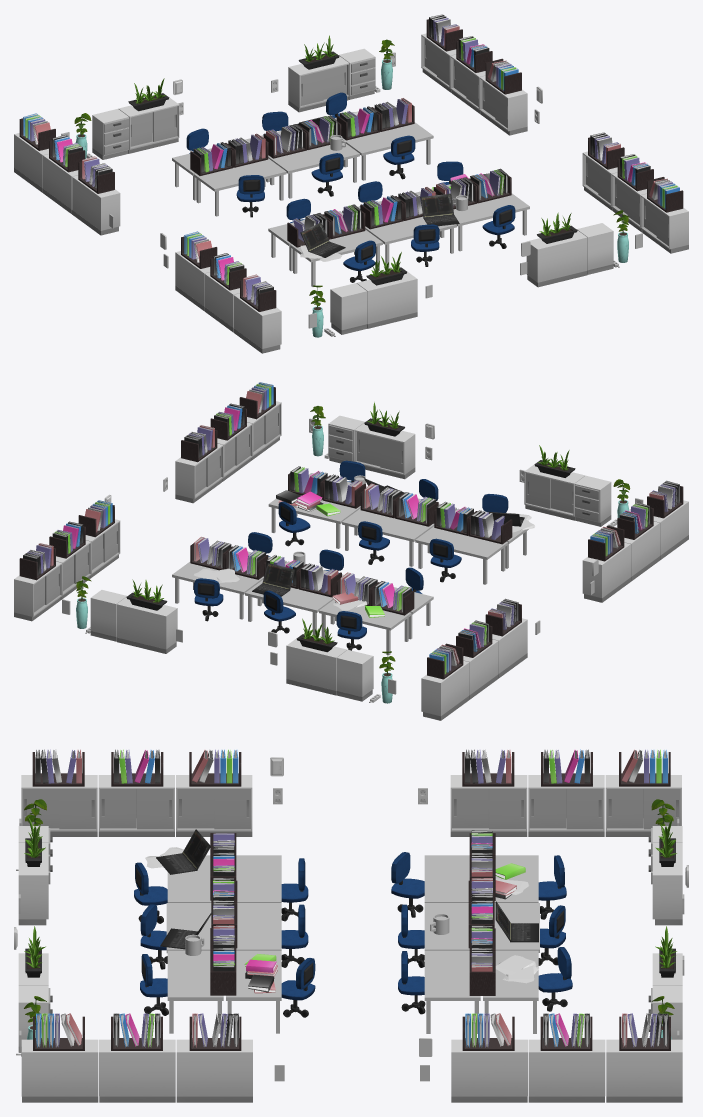
Rendered from Room04Set1.FBX.
3 views of the same model, one above another, from view 1: azimuth 30°, elevation 25°; view 2: azimuth 150°, elevation 25°; view 3: azimuth 270°, elevation 25° (orthographic). The views are drawn at different scales.
Parts seen in each view (by area): view 1: chestbox060, chestbox062, chestbox050, chestbox053, chestbox061, Box389, Box390, Box388, Box401, chestbox059, chestbox057, chestbox048 (+29 smaller); view 2: chestbox066, chestbox064, chestbox054, chestbox051, chestbox063, Box405, Box403, chestbox065, chestbox047, chestbox060, Box386, chestbox053 (+23 smaller); view 3: chestbox058, chestbox048, chestbox047, chestbox056, chestbox057, chestbox049, Box390, Box401, Box389, Box405, chestbox064, Box403 (+58 smaller).
Part boxes in pixels (x1=…): chestbox060: x1=526, y1=230, x2=587, y2=287; chestbox062: x1=356, y1=271, x2=417, y2=328; chestbox050: x1=233, y1=293, x2=281, y2=353; chestbox053: x1=72, y1=175, x2=120, y2=235; chestbox061: x1=330, y1=283, x2=367, y2=334; Box389: x1=193, y1=158, x2=286, y2=216; Box390: x1=342, y1=122, x2=433, y2=180; Box388: x1=268, y1=143, x2=359, y2=198; Box401: x1=440, y1=193, x2=529, y2=251; chestbox059: x1=576, y1=223, x2=613, y2=274; chestbox057: x1=479, y1=75, x2=527, y2=135; chestbox048: x1=640, y1=194, x2=688, y2=253; chestbox066: x1=116, y1=597, x2=177, y2=653; chestbox064: x1=286, y1=638, x2=346, y2=695; chestbox054: x1=421, y1=660, x2=469, y2=720; chestbox051: x1=582, y1=542, x2=630, y2=602; chestbox063: x1=336, y1=650, x2=373, y2=701; Box405: x1=415, y1=526, x2=508, y2=584; Box403: x1=342, y1=508, x2=434, y2=566; chestbox065: x1=90, y1=590, x2=126, y2=641; chestbox047: x1=175, y1=443, x2=223, y2=503; chestbox060: x1=354, y1=423, x2=415, y2=479; Box386: x1=319, y1=599, x2=411, y2=655; chestbox053: x1=492, y1=618, x2=527, y2=677; chestbox058: x1=528, y1=1039, x2=605, y2=1102; chestbox048: x1=21, y1=1039, x2=98, y2=1102; chestbox047: x1=176, y1=1039, x2=252, y2=1102; chestbox056: x1=606, y1=1039, x2=682, y2=1102; chestbox057: x1=451, y1=1039, x2=527, y2=1102; chestbox049: x1=99, y1=1039, x2=175, y2=1102; Box390: x1=424, y1=950, x2=480, y2=1033; Box401: x1=167, y1=950, x2=223, y2=1033; Box389: x1=424, y1=855, x2=469, y2=902; Box405: x1=236, y1=855, x2=281, y2=902; chestbox064: x1=652, y1=843, x2=682, y2=925; Box403: x1=236, y1=903, x2=281, y2=950.
Bounding box in the file's own units: 119 × 16.76 × 120.
